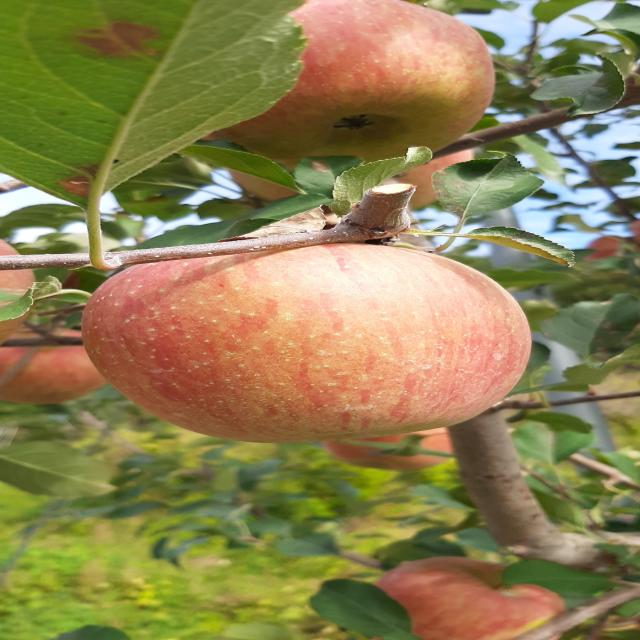fresh: (67, 241, 551, 450)
